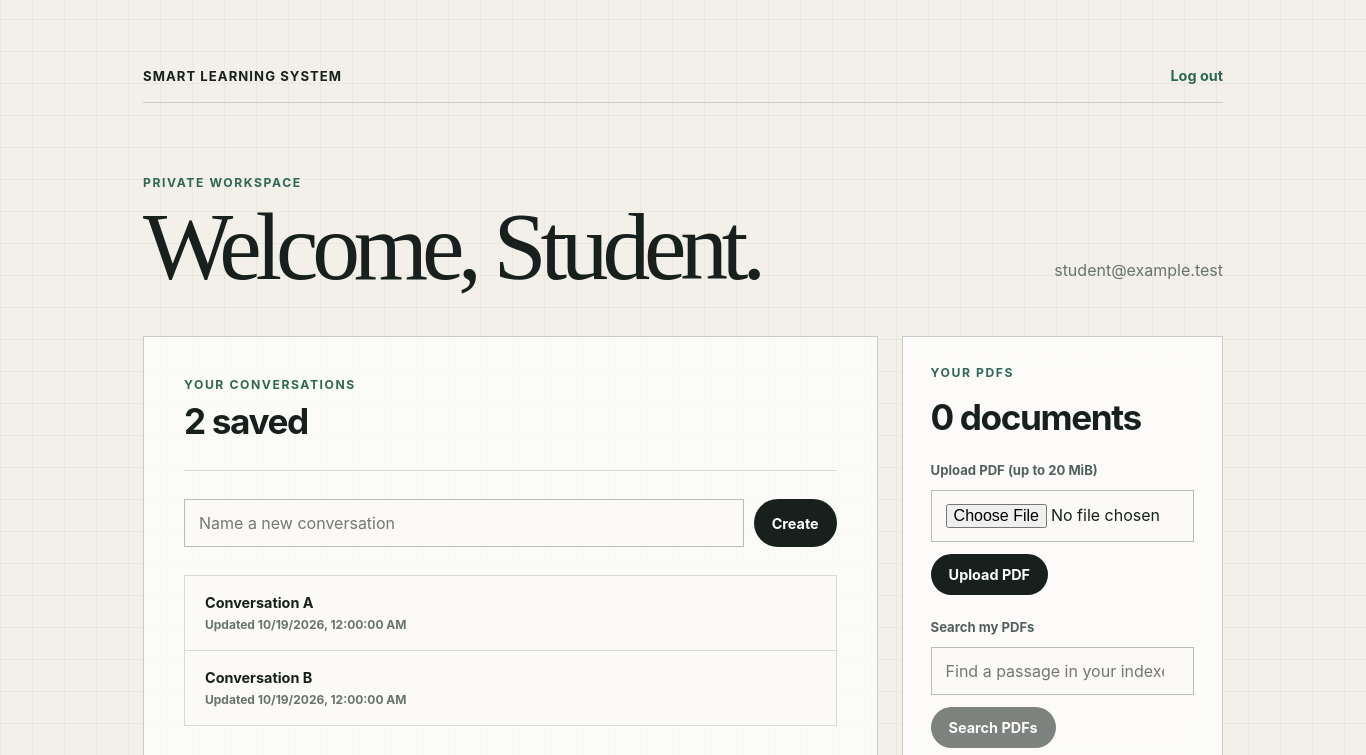
Test: a completed reply preserves edits typed while waiting
Click the button "Conversation A Updated 10/19/2026, 12:00:00 AM": (259, 603) [185,576,836,650]
(page scrolled)
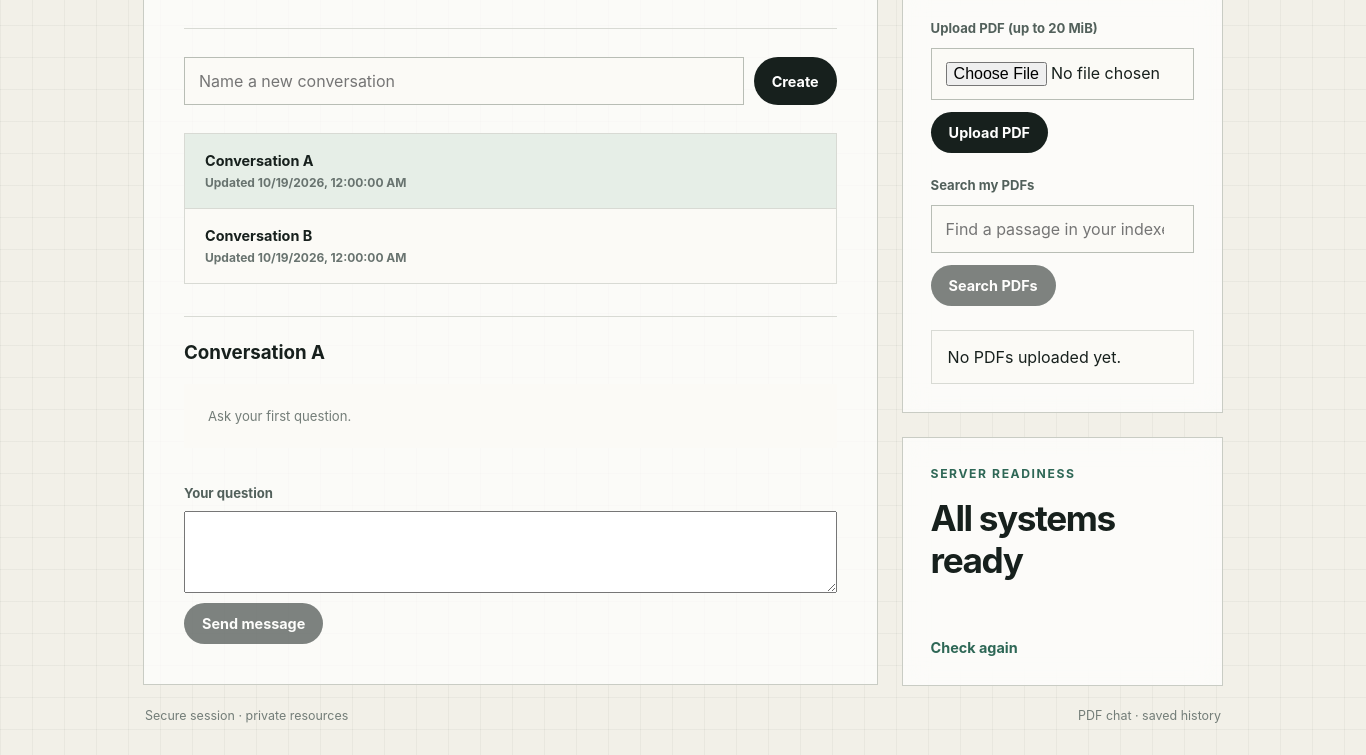
Now the heading "Conversation A" is shown, box [184,341,325,364]
In the text box labelled "Your question": (510, 552) [184,511,837,593], type "First question"
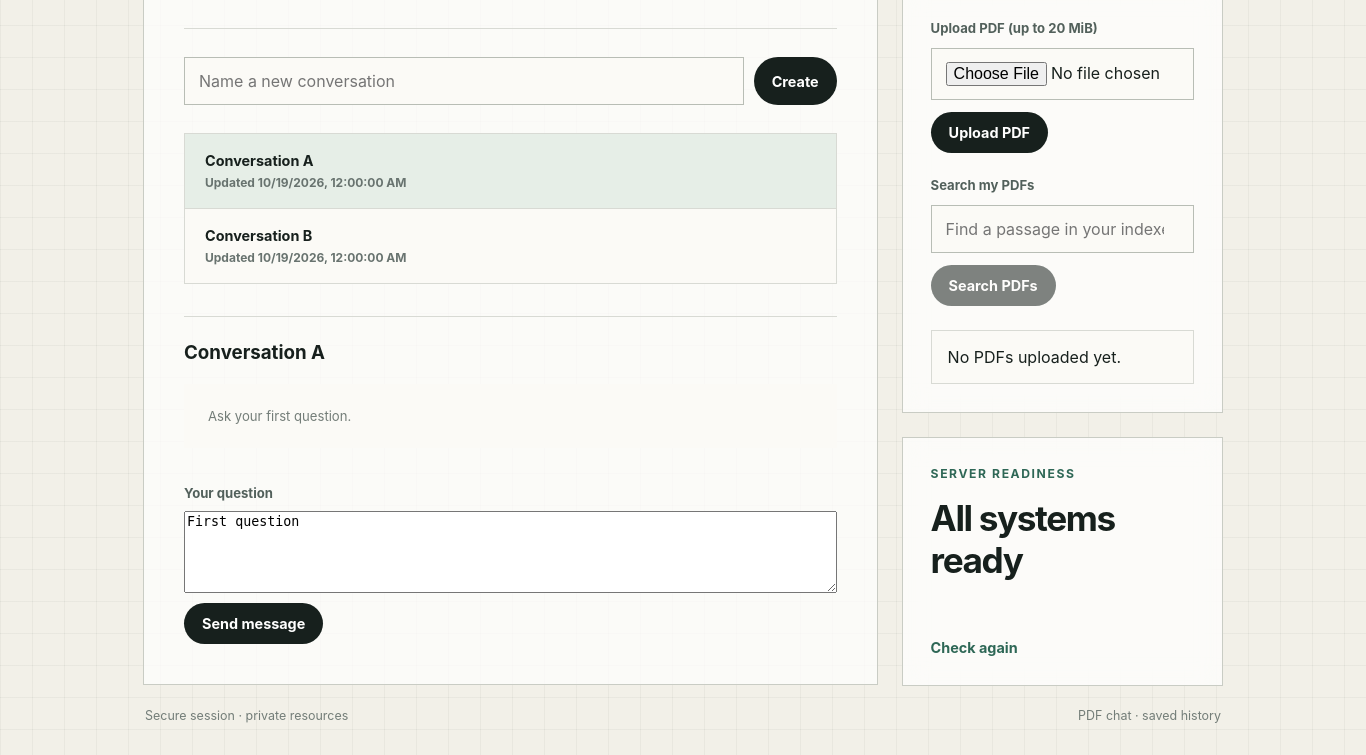
Click the button "Send message": (254, 624) [184,603,323,644]
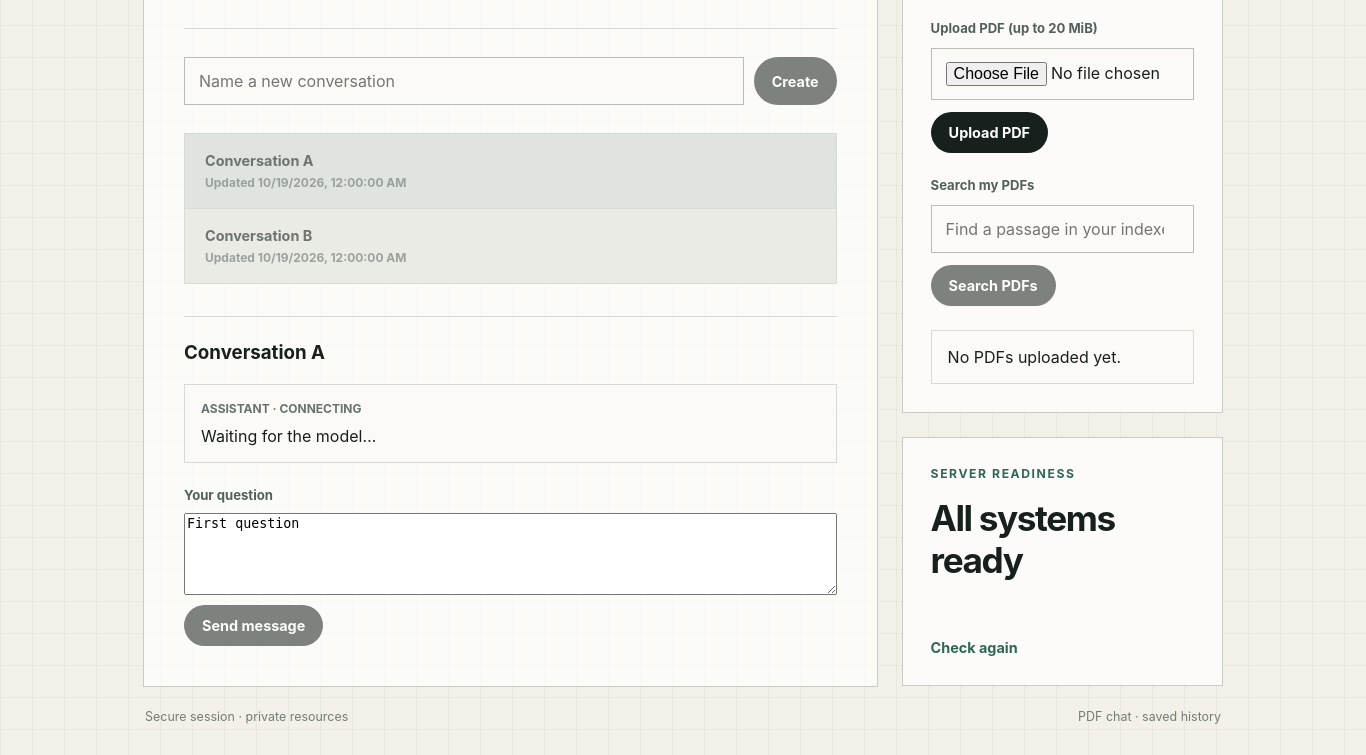
Replace the text in the text box labelled "Your question" with "Next question": (510, 554) [184,513,837,595]
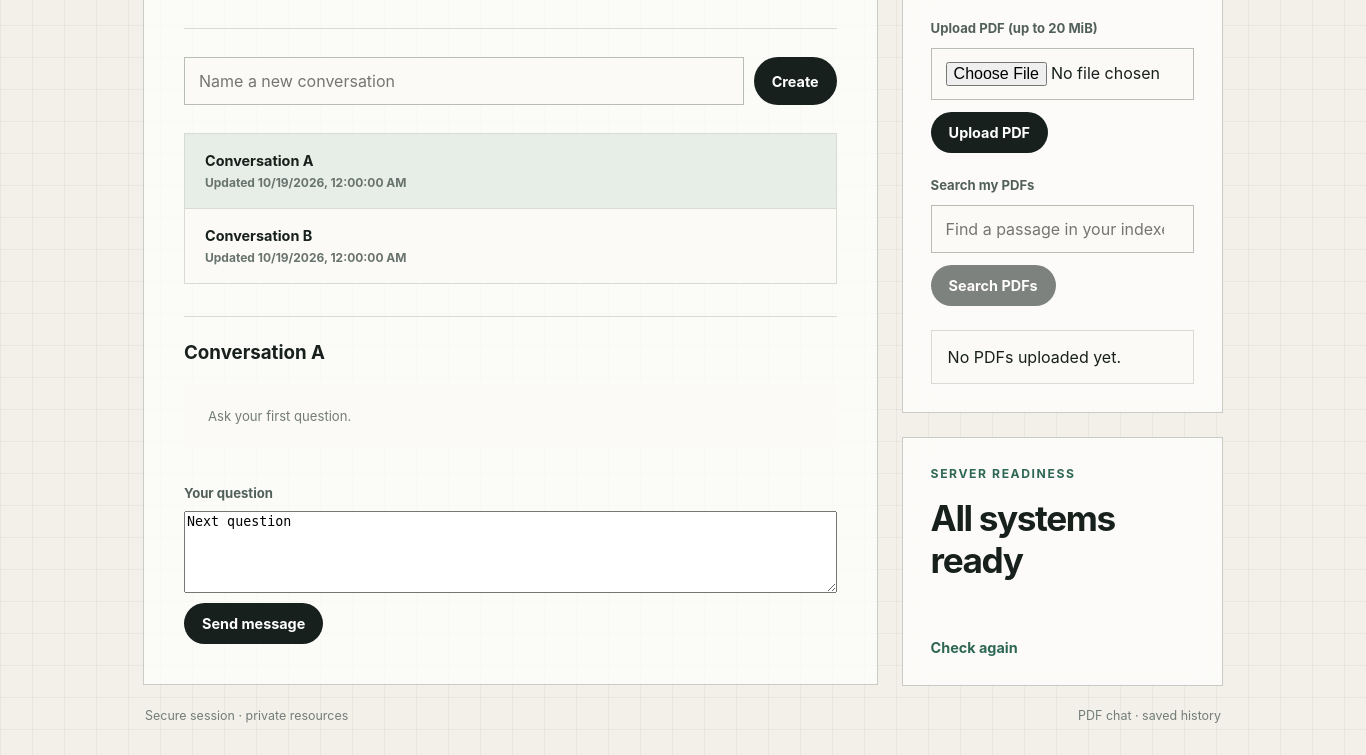
Now the button "Send message" is enabled, box [184,603,323,644]
